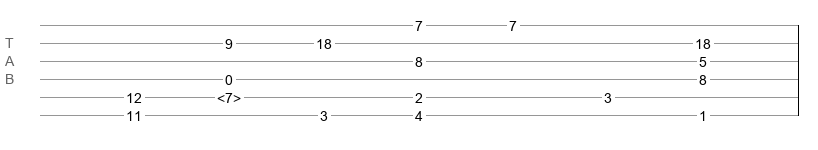0: (225, 72, 233, 82)
1: (699, 108, 707, 118)
11: (126, 108, 142, 118)
12: (126, 90, 142, 100)
18: (316, 36, 332, 46), (695, 36, 711, 46)
2: (415, 90, 423, 100)
3: (320, 108, 328, 118), (604, 90, 612, 100)
4: (415, 108, 423, 118)
5: (699, 54, 707, 64)
7: (415, 18, 423, 28), (509, 18, 517, 28)
8: (415, 54, 423, 64), (699, 72, 707, 82)
9: (225, 36, 233, 46)
harmonic: (217, 90, 241, 100)
